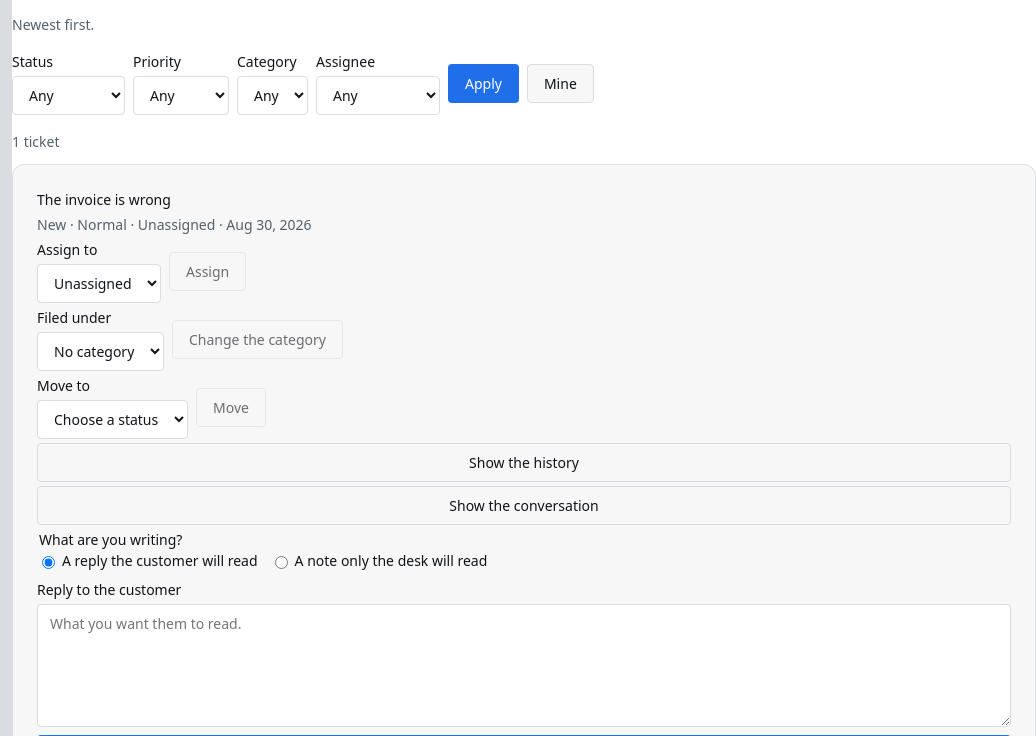
Test case: a failed reply keeps the draft
Type "Something I spent a while writing." into the text box labelled "Reply to the customer". click: x=524, y=666
box: x1=37 y1=604 x2=1011 y2=727
(page scrolled)
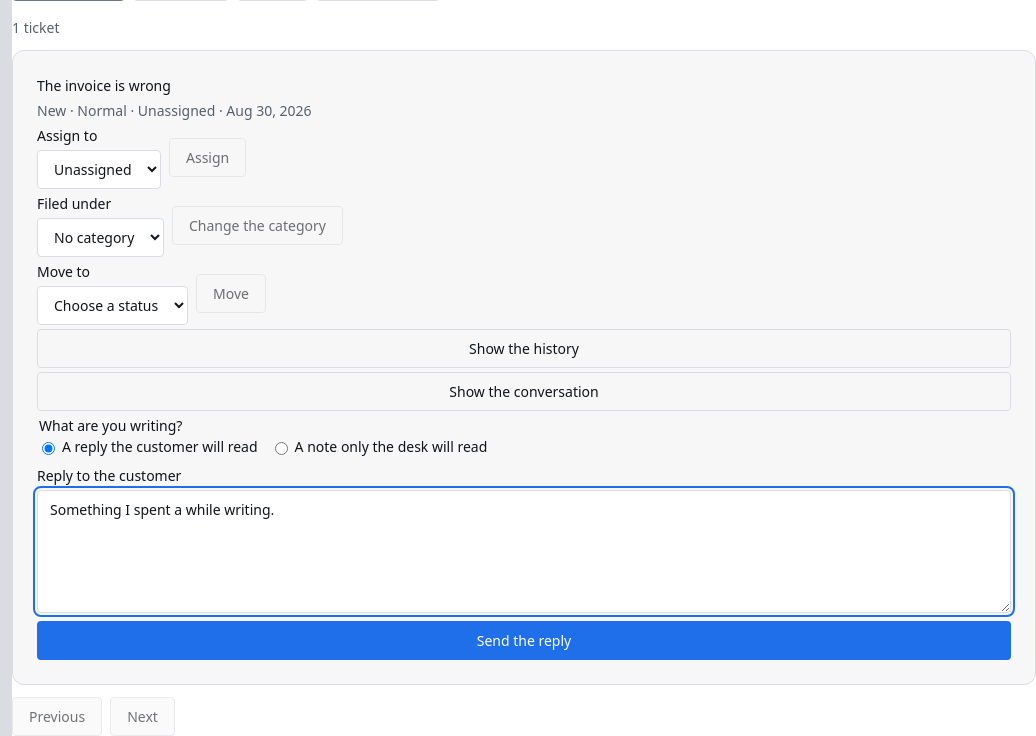
Click the button "Send the reply". click: x=524, y=640
box: x1=37 y1=621 x2=1011 y2=660
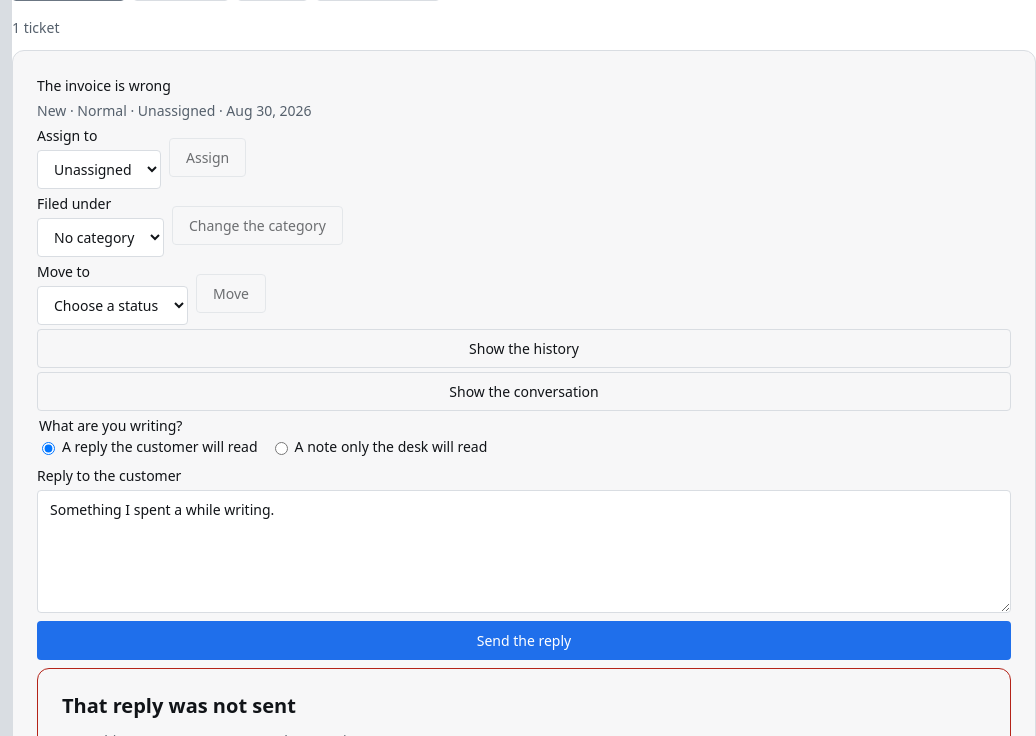
Result: the heading "That reply was not sent" is shown at x1=62 y1=692 x2=296 y2=719
